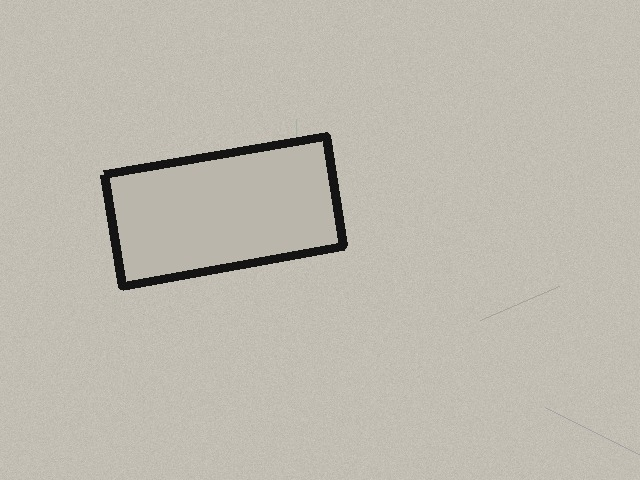parking_area: (104, 136, 343, 286)
